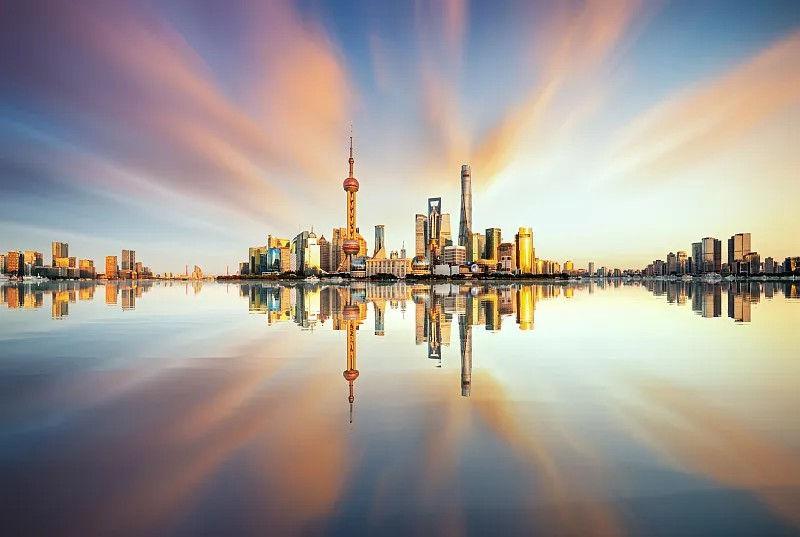Oriental: (337, 124, 360, 272)
